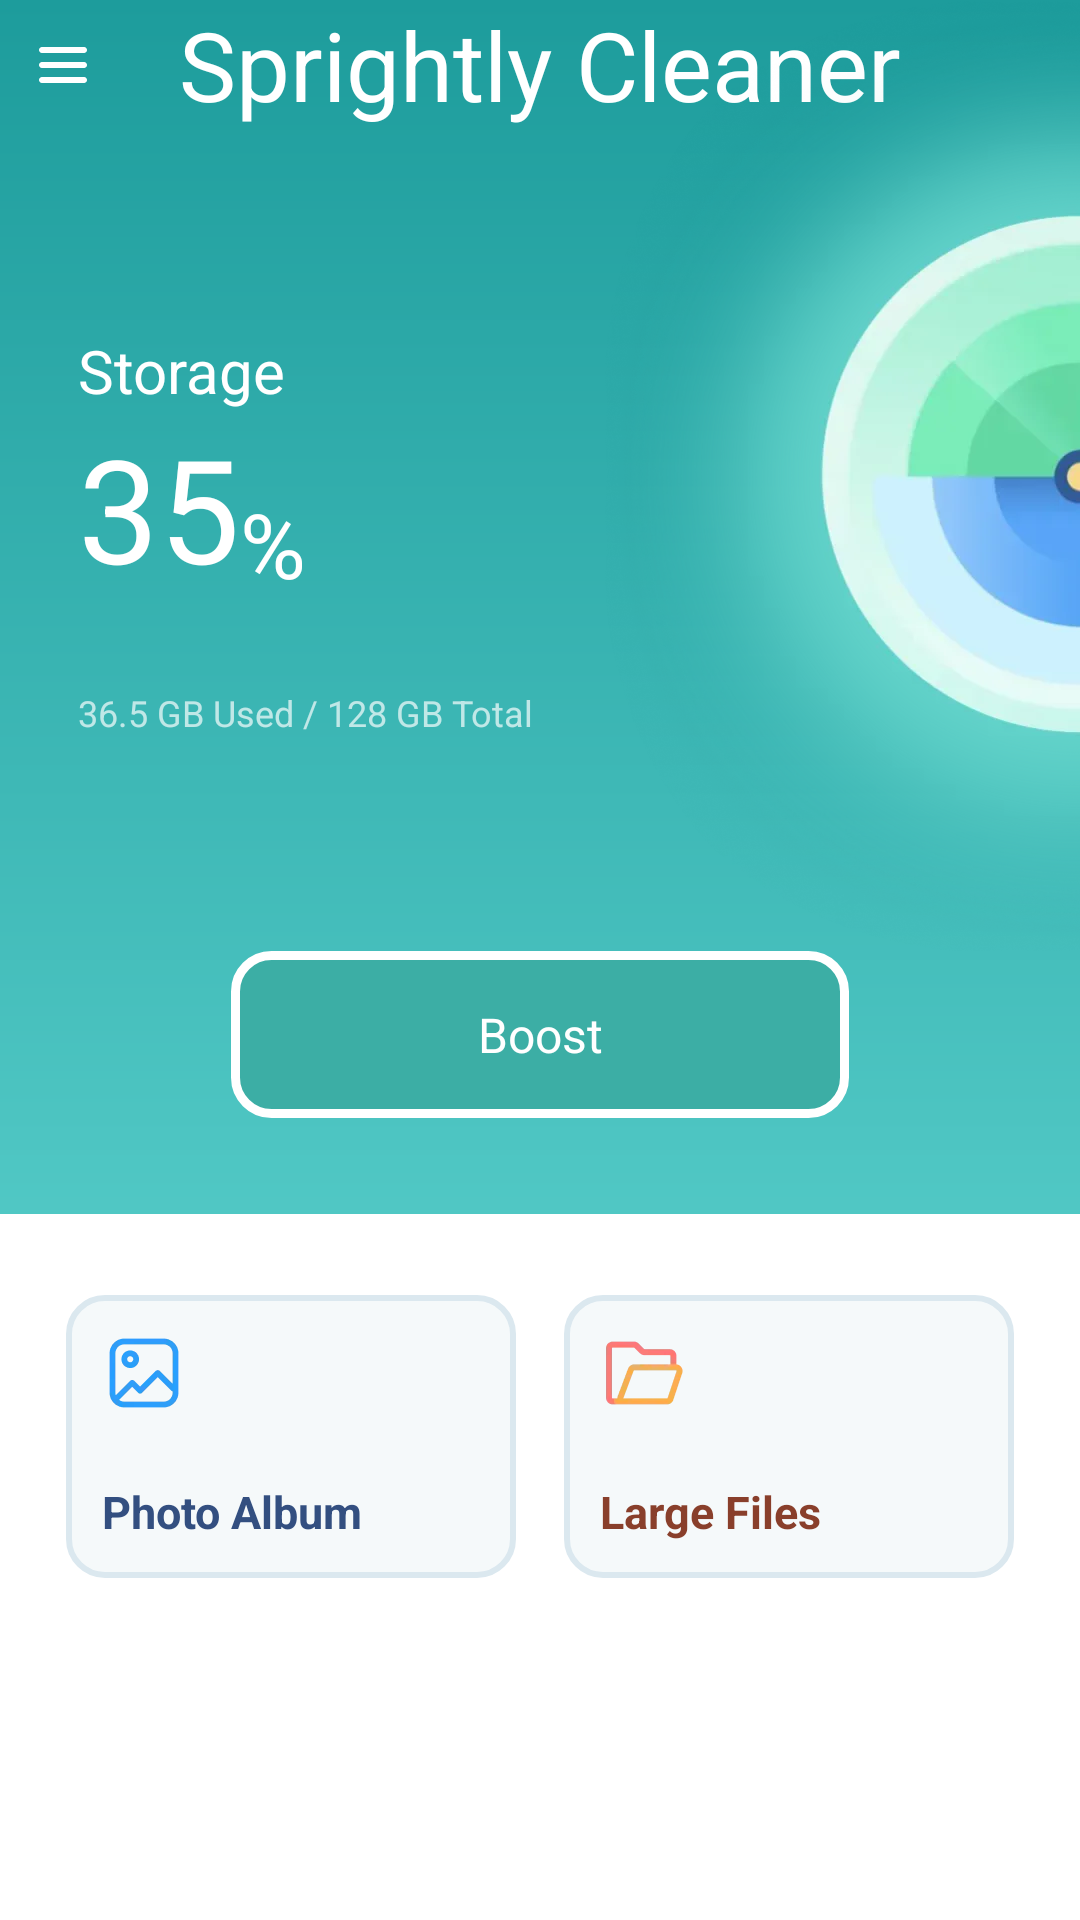

Where icons sit on this 1080px×1920px app screen, as detection(x1, y1, x2, y2):
menu: detection(39, 47, 87, 83)
